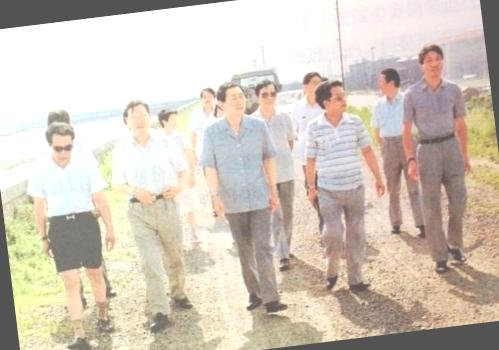no_helmet: (40, 108, 82, 166), (413, 38, 450, 87), (117, 94, 156, 140), (313, 76, 351, 122), (215, 78, 252, 124), (251, 72, 284, 116), (298, 65, 326, 104), (374, 64, 402, 101), (156, 105, 184, 138), (194, 80, 218, 112)
